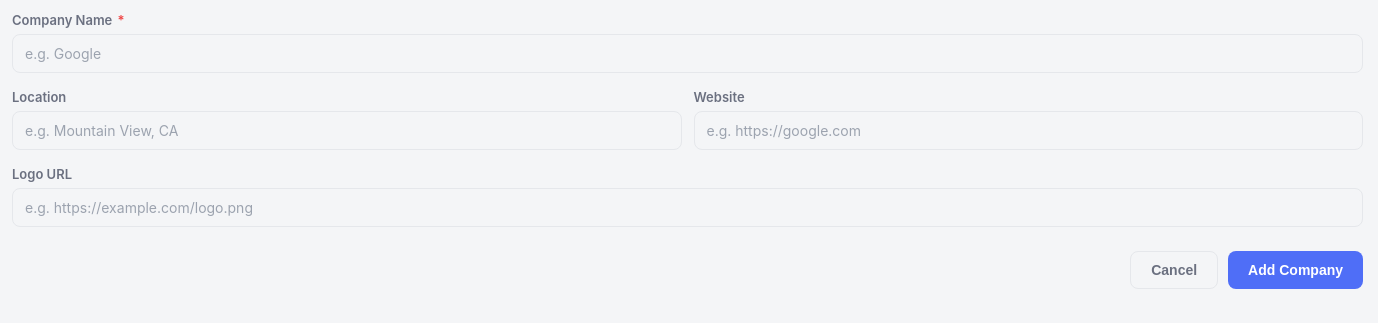
Test: CompanyForm › shows validation error for empty company name
Click the button "Add Company": x=1296, y=270 [1228,251,1363,289]
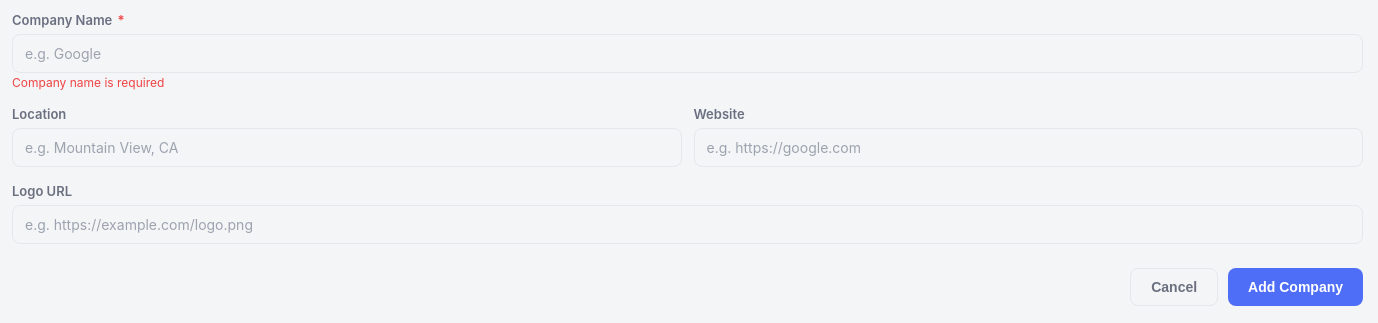
Check: the text "Company name is required" is shown, box [12,75,164,90]
